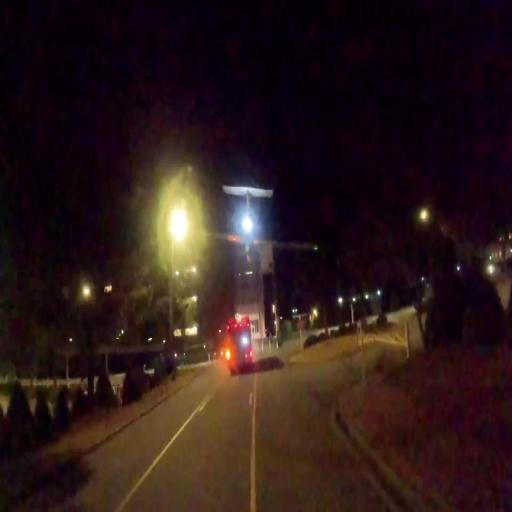uav: (197, 174, 321, 254)
